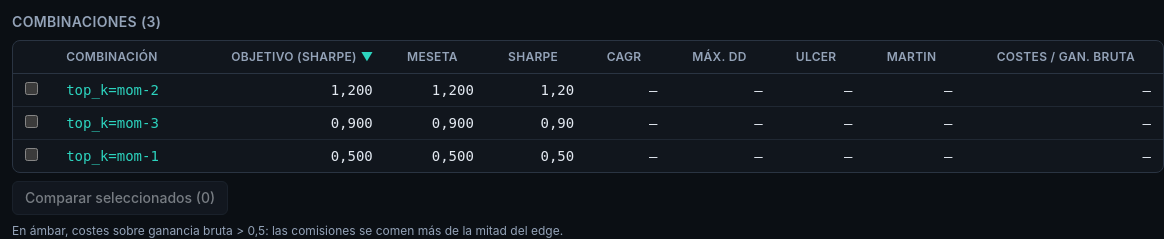
Test: Tabla de combinaciones del barrido › «Comparar seleccionados» está desactivado con menos de 2 y navega a Comparar con los ids marcados
(page scrolled)
Expected: the button "Comparar seleccionados (0)" is disabled, x1=12 y1=181 x2=228 y2=215
Click the checkbox named "Seleccionar mom-1 para comparar": (32, 154) x1=25 y1=148 x2=38 y2=161
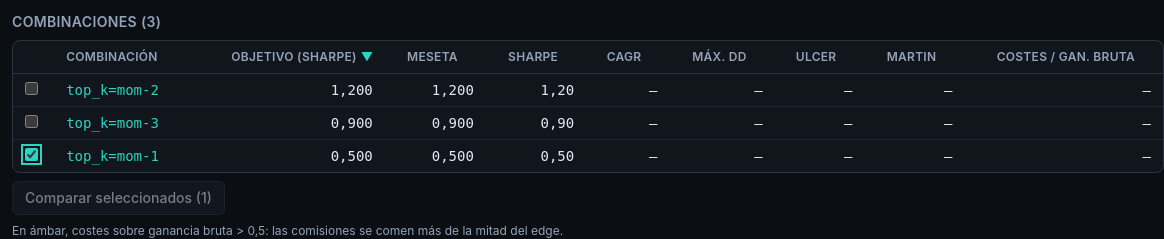
Expected: the button "Comparar seleccionados (1)" is disabled, x1=12 y1=181 x2=225 y2=215
Click the checkbox named "Seleccionar mom-3 para comparar": (32, 122) x1=25 y1=115 x2=38 y2=128
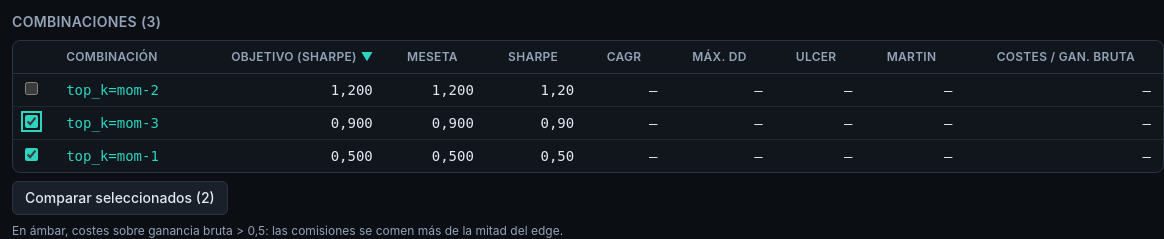
Now the button "Comparar seleccionados (2)" is enabled
Now the button "Comparar seleccionados (2)" is shown
Click the button "Comparar seleccionados (2)": (120, 198) x1=12 y1=181 x2=228 y2=215
(page scrolled)
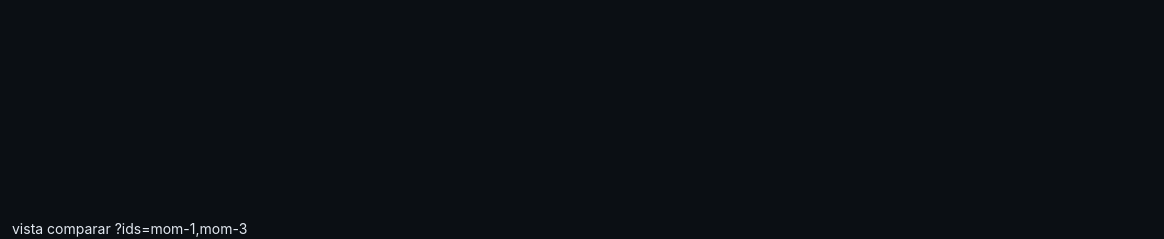
Now the text "vista comparar ?ids=mom-1,mom-3" is shown, box x1=12 y1=220 x2=247 y2=237
